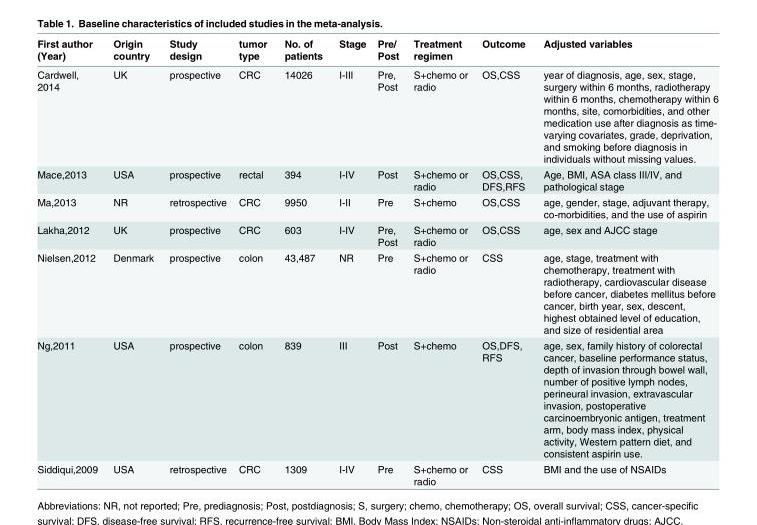table: (36, 37, 717, 486)
table column: (533, 37, 717, 486), (160, 37, 231, 486), (405, 37, 474, 486), (36, 37, 104, 486), (474, 37, 533, 486), (104, 37, 160, 486), (275, 37, 330, 486), (231, 37, 275, 486), (330, 37, 371, 486), (371, 37, 405, 486)
table column header: (36, 37, 717, 64)
table row: (36, 337, 717, 460), (36, 64, 717, 165), (36, 249, 717, 337), (36, 165, 717, 193), (36, 193, 717, 221), (36, 221, 717, 249), (36, 37, 717, 64), (36, 460, 717, 486)
